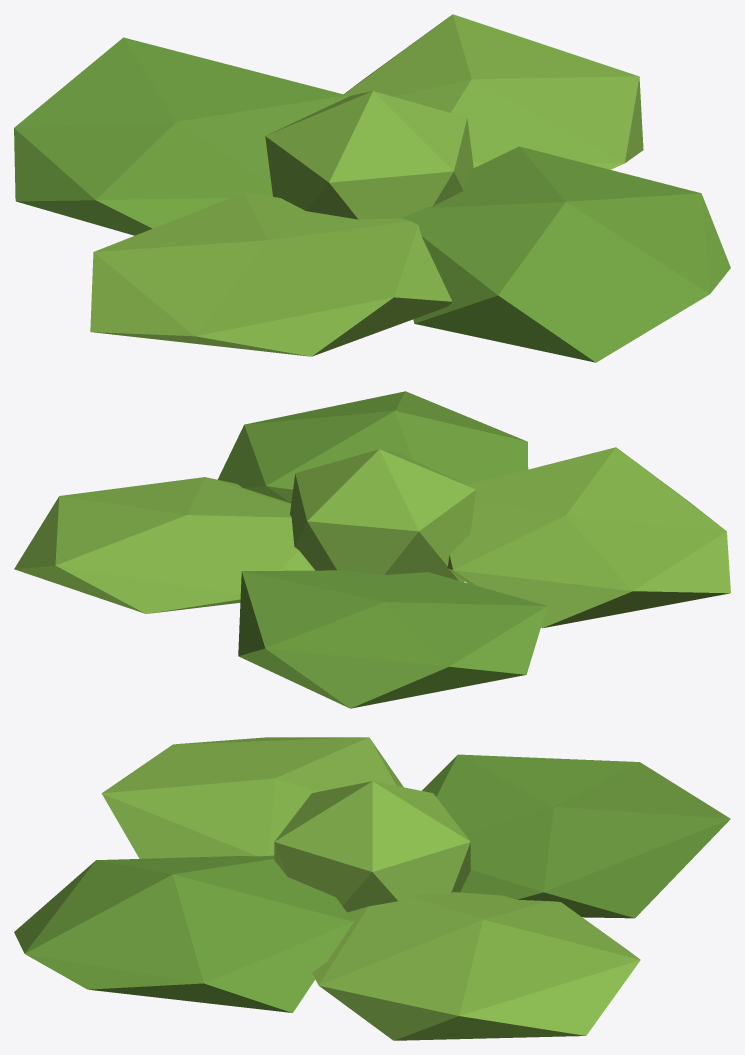
The model's file is crop_pumpkin_1.glb.
3 renders of one model, top to bottom at view 1: azimuth 30°, elevation 25°; view 2: azimuth 150°, elevation 25°; view 3: azimuth 270°, elevation 25°, orthographic. The views are drawn at different scales.
Parts seen in each view (by area): view 1: crop_pumpkin_1; view 2: crop_pumpkin_1; view 3: crop_pumpkin_1.
Boxes of the visible parts, left/top/right/bottom form: crop_pumpkin_1: left=14, top=14, right=730, bottom=362; crop_pumpkin_1: left=14, top=391, right=730, bottom=708; crop_pumpkin_1: left=14, top=737, right=730, bottom=1040.
Bounding box in the file's own units: 0.3397 × 0.09 × 0.3416.
